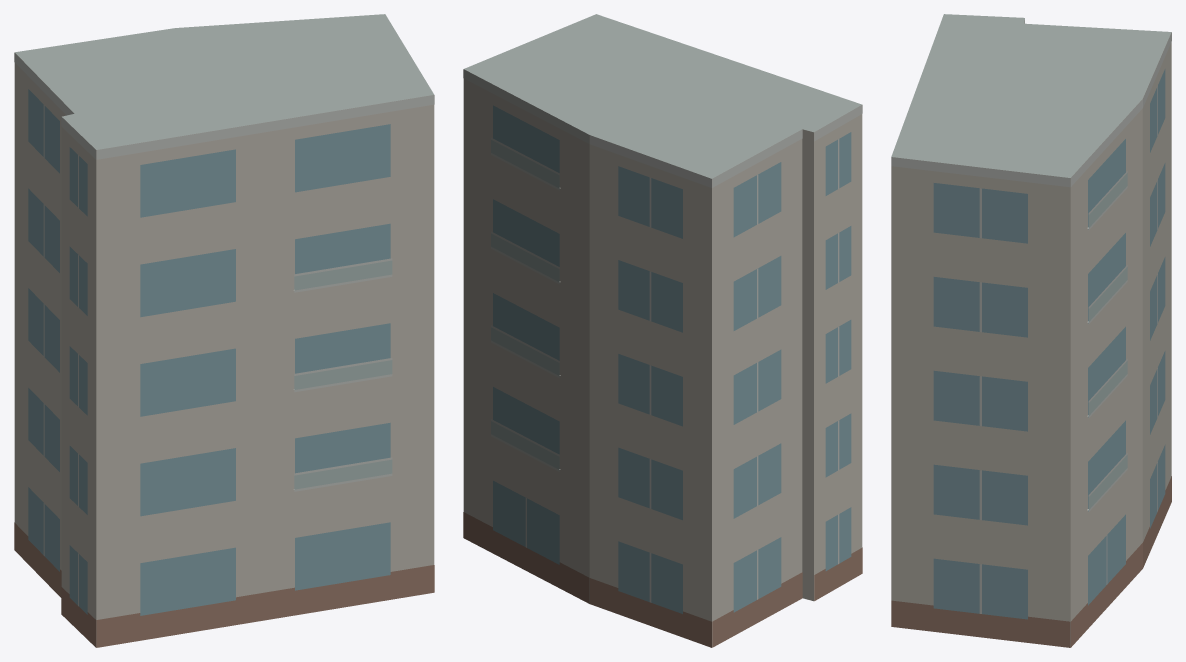
The model's file is survey-upis-32463221.glb.
3 renders of one model, left to right at view 1: azimuth 30°, elevation 25°; view 2: azimuth 150°, elevation 25°; view 3: azimuth 270°, elevation 25°, orthographic. The views are drawn at different scales.
Parts seen in each view (by area): view 1: survey-upis-32463221.tmp; view 2: survey-upis-32463221.tmp; view 3: survey-upis-32463221.tmp.
Boxes of the visible parts, bbox=[...] form: survey-upis-32463221.tmp: bbox=[14, 14, 434, 647]; survey-upis-32463221.tmp: bbox=[463, 14, 862, 647]; survey-upis-32463221.tmp: bbox=[891, 14, 1171, 647].
Size of the model in its own units: 9.3 by 12.4 by 6.72.
